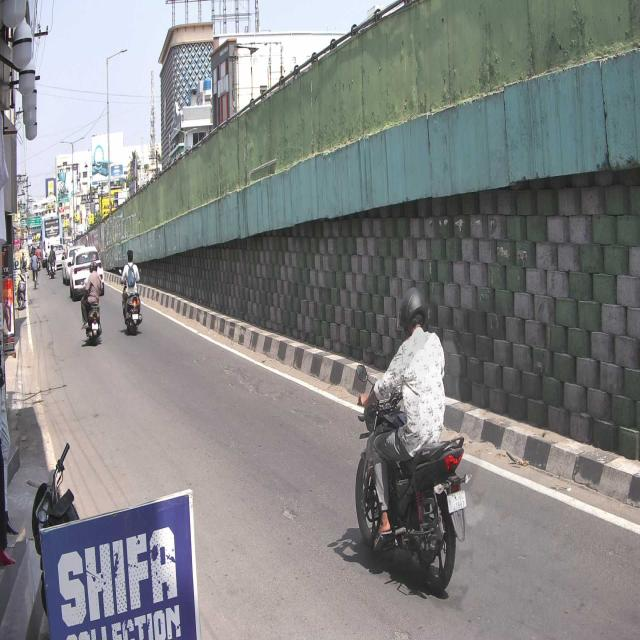single_rider: (353, 285, 474, 592)
